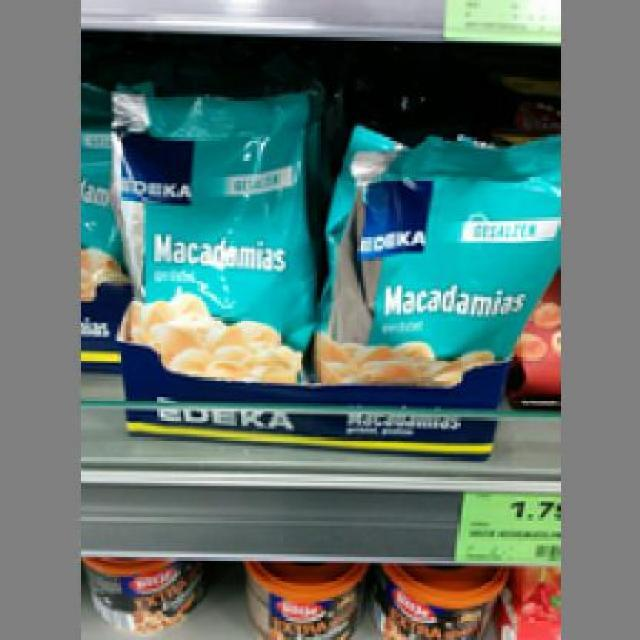Nuts: (312, 123, 558, 386), (105, 77, 318, 380)
